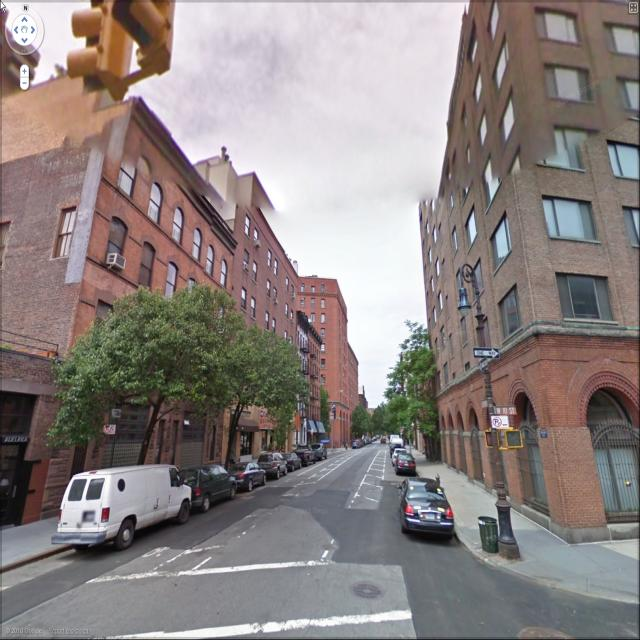b_1: (422, 5, 640, 538), (328, 276, 369, 454), (296, 322, 330, 449), (287, 266, 353, 322), (341, 340, 370, 445)
b_2: (425, 3, 636, 533), (1, 96, 238, 502), (224, 174, 293, 480), (398, 360, 434, 462)
